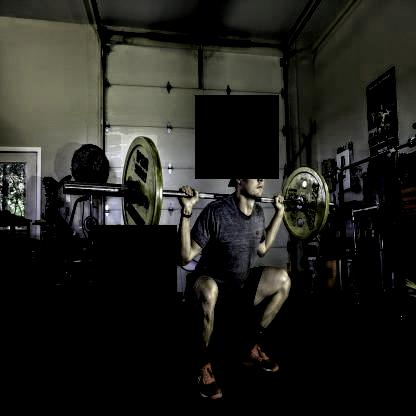barbell: (121, 135, 157, 248)
